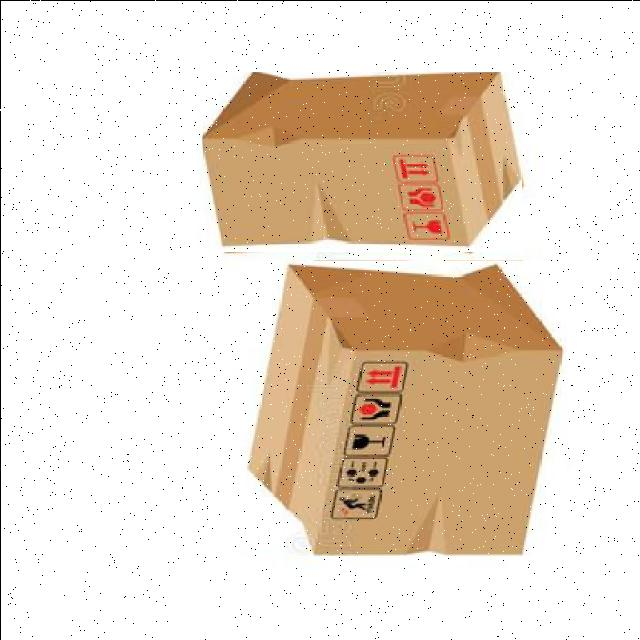defect: (240, 260, 566, 555), (202, 71, 522, 251)
